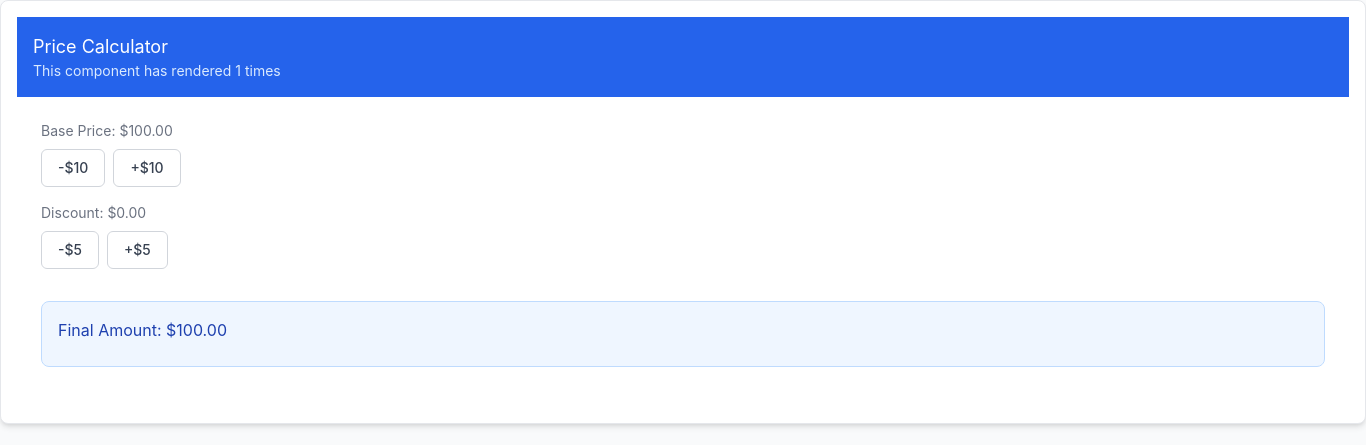
Test: PriceCalculator › updates price when buttons are clicked
The image size is (1366, 445).
# Increase price
Click the button "+$10" at (147, 168), box [113,149,181,187]
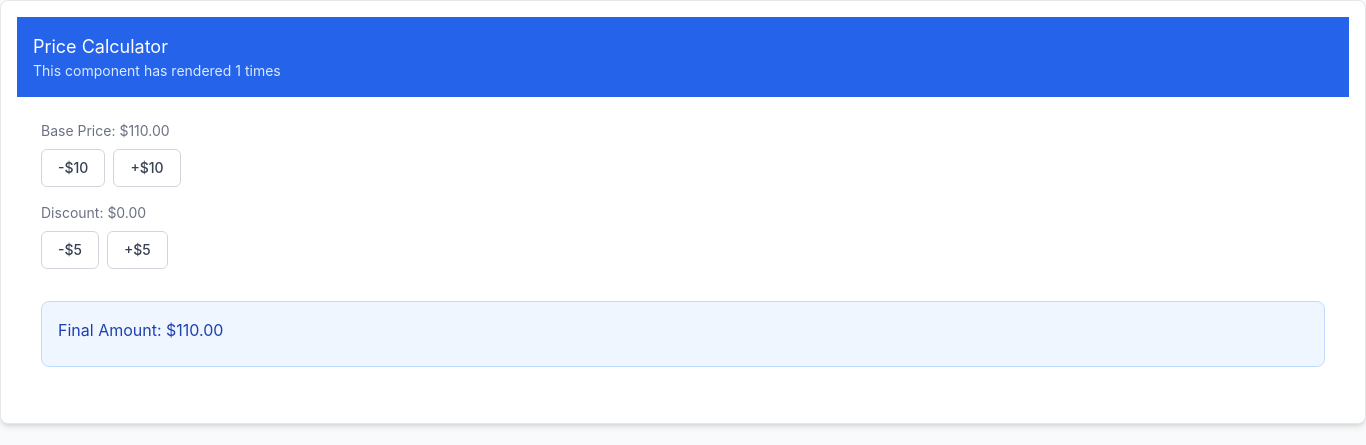
Check: the text "Base Price: $110.00" is shown, box [41,122,170,139]
Check: the heading "Final Amount: $110.00" is shown, box [58,320,223,340]
# Decrease price
Click the button "-$10" at (73, 168), box [41,149,105,187]
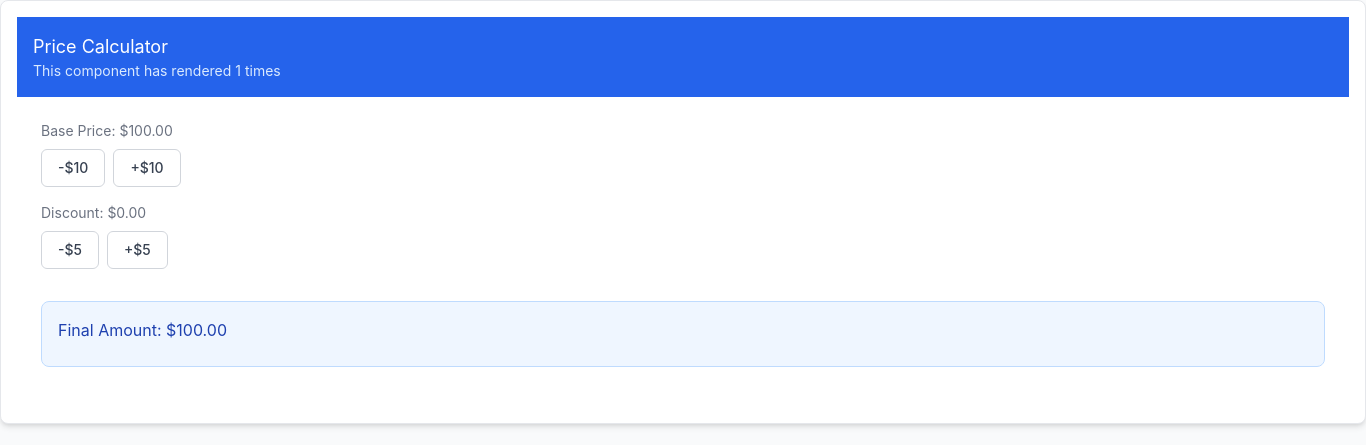
Check: the text "Base Price: $100.00" is shown, box [41,122,173,139]
Check: the heading "Final Amount: $100.00" is shown, box [58,320,227,340]
